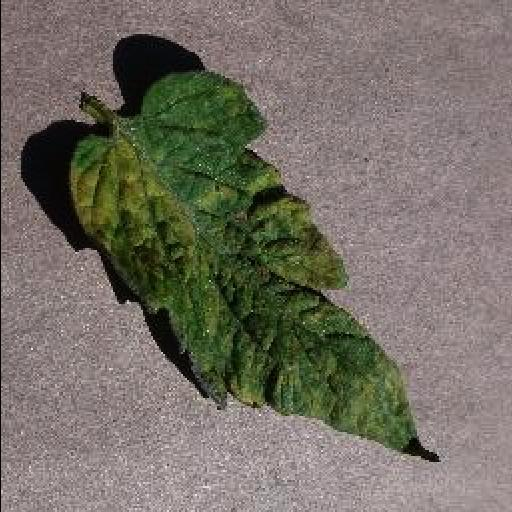disease_tomato: (70, 68, 444, 464)
